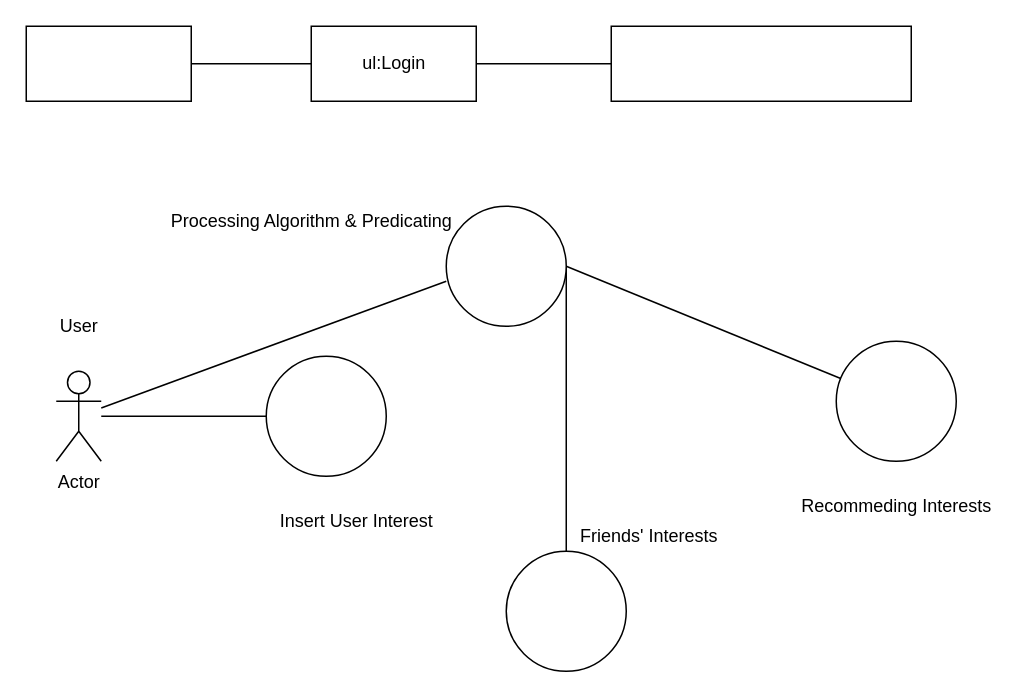
The diagram is 1028 pixels wide and 698 high, and some of its shapes have lost their labels. Here are the shapes that lost their labels. From the top down, the centre of each, then its label:
At point (108, 63): "u:User".
At point (760, 63): "gr:getRecommendations".
